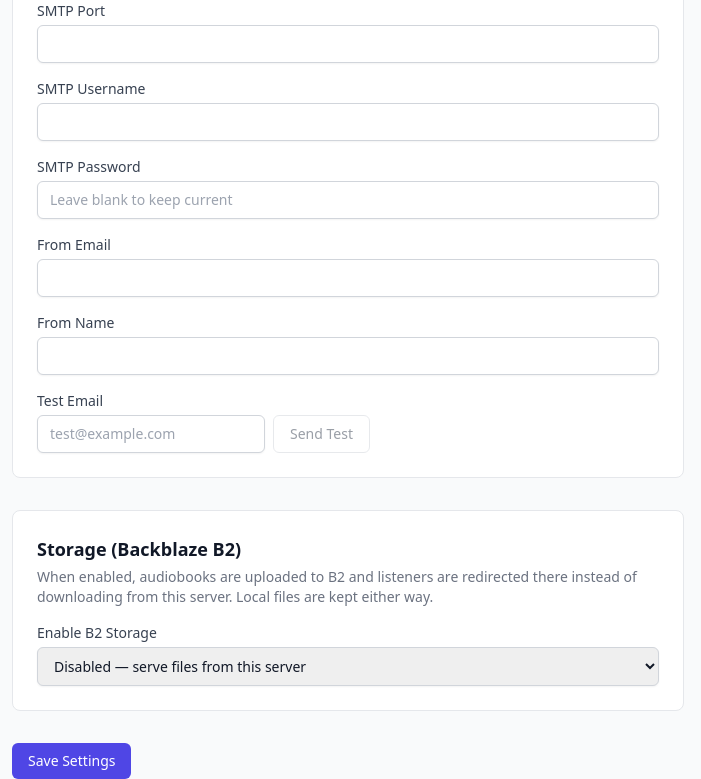
Test case: SettingsPage › reports an SMTP failure rather than a false success
(page scrolled)
Type "me@example.com" into the field labelled "Test Email".
click(151, 434); type("me@example.com")  # box [37,415,265,453]
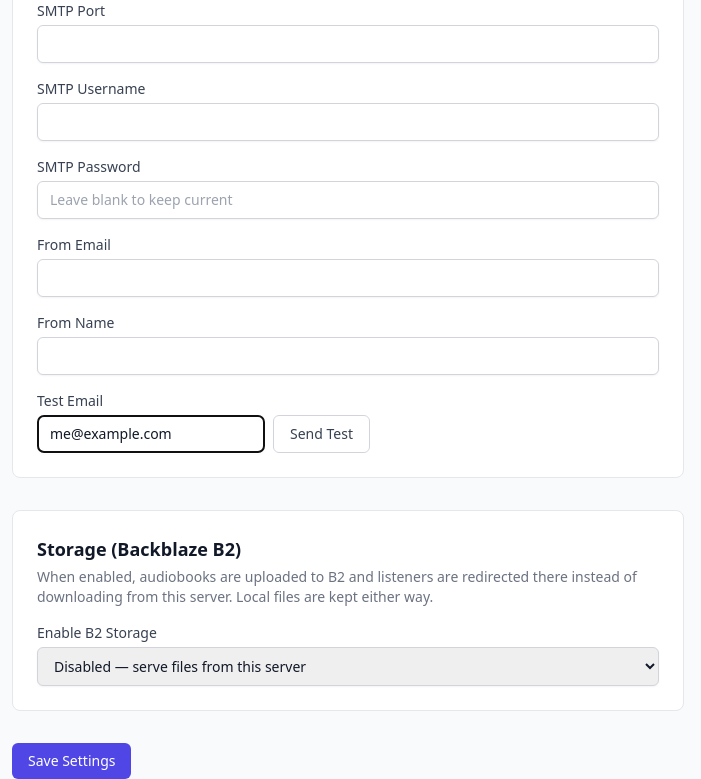
Click the button "Send Test".
click(322, 434)  # box [273,415,370,453]
(page scrolled)
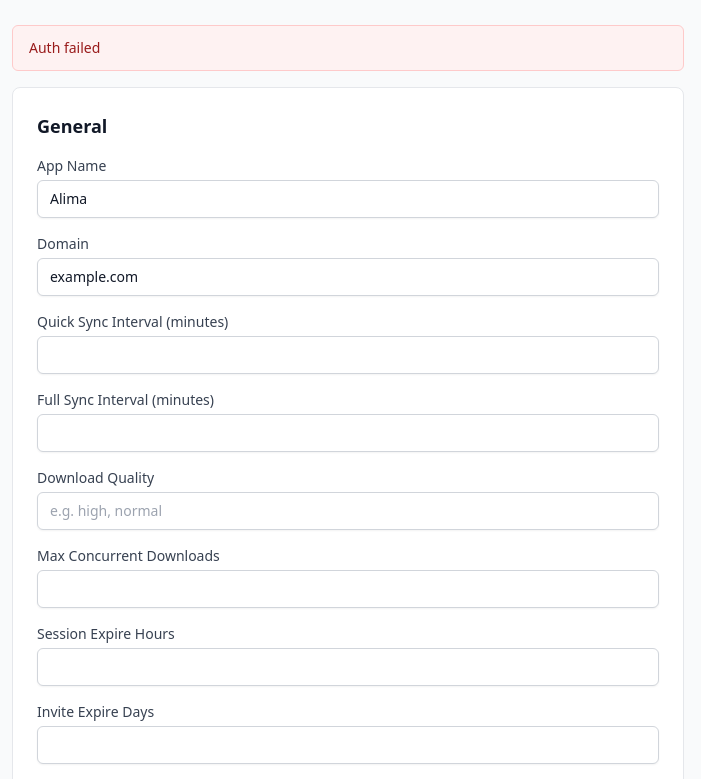
Check: the text "Auth failed" is shown, box [12,25,684,71]
